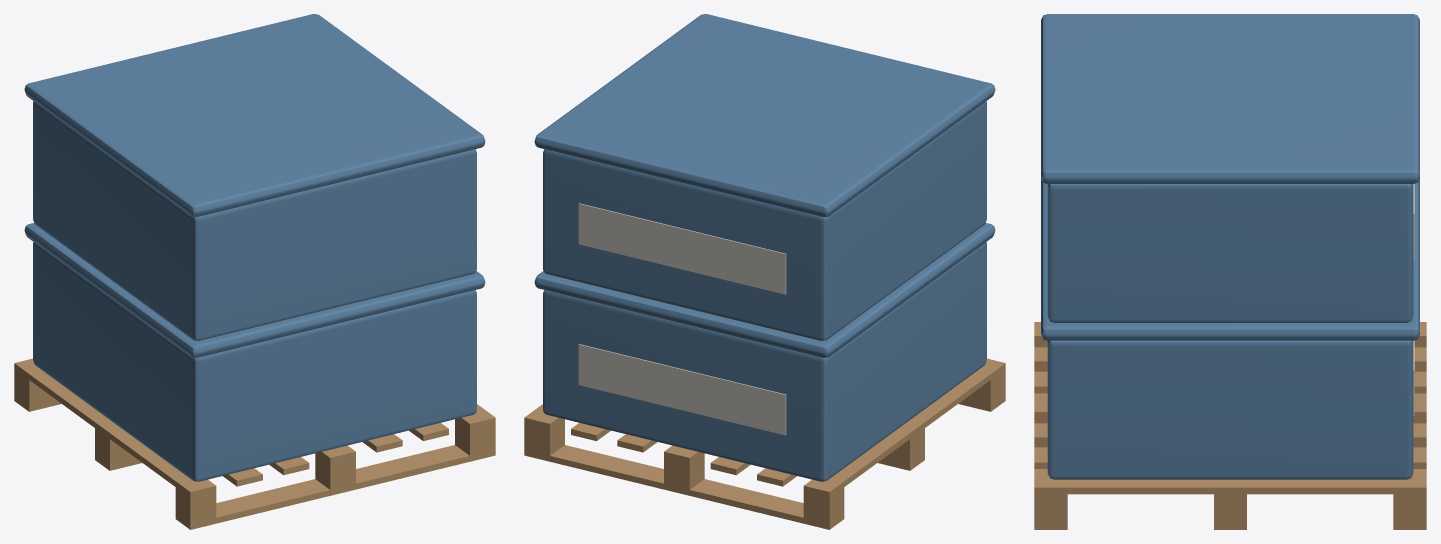
Rendered from prop_ice_bins.glb.
The picture shows the model from 3 angles, left to right: view 1: azimuth 30°, elevation 25°; view 2: azimuth 150°, elevation 25°; view 3: azimuth 270°, elevation 25°; orthographic projection. The views are drawn at different scales.
Parts seen in each view (by area): view 1: Bins; view 2: Bins; view 3: Bins.
Part boxes in pixels (x1,y1,x2,y2): Bins: [14, 14, 495, 529]; Bins: [524, 14, 1005, 529]; Bins: [1034, 14, 1426, 529].
Size of what is drawn, in the model's own units: 1.18 by 1.18 by 1.18.
